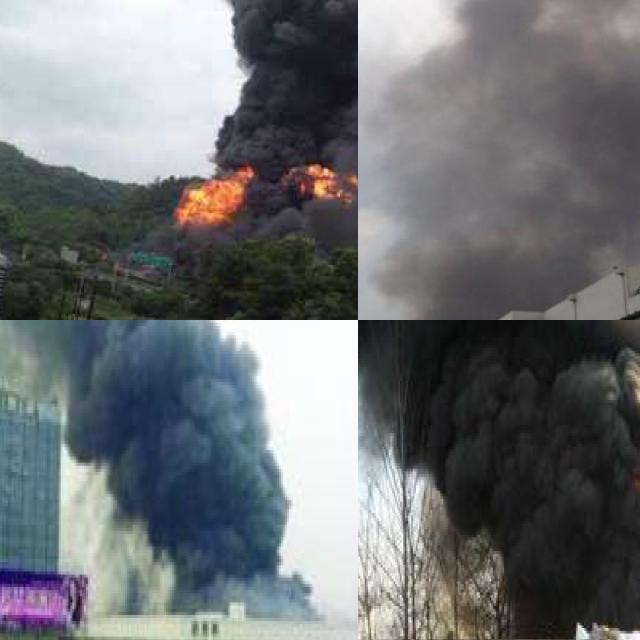fire: (174, 162, 251, 221), (292, 159, 358, 197)
smoke: (358, 320, 640, 631), (0, 320, 315, 597), (157, 0, 358, 249), (383, 47, 640, 191)
